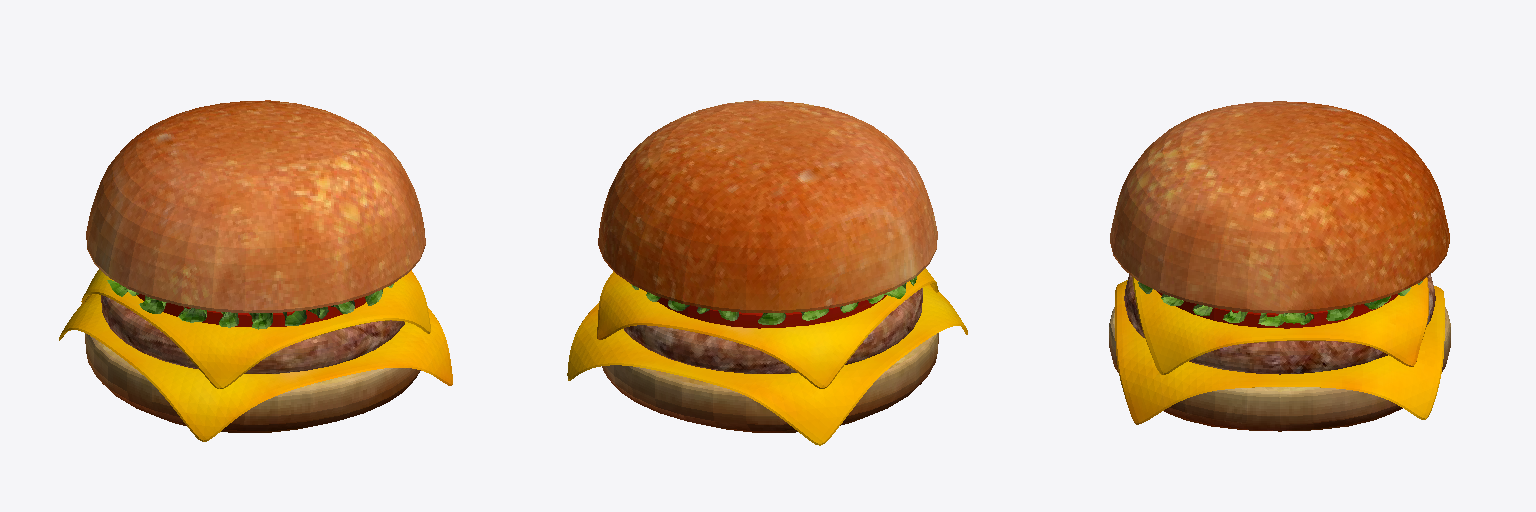
3 renders of one model, left to right at view 1: azimuth 30°, elevation 25°; view 2: azimuth 150°, elevation 25°; view 3: azimuth 270°, elevation 25°, orthographic.
Visible parts, largest first — view 1: hamburger.pawn.000_Cube.011, hamburger.chees.001_Plane.001, hamburger.chees.002_Plane.002, hamburger.pawn.001_Cube.006, hamburger.beef_Cube.003, hamburger.vegetable_Cube.005, hamburger.Tomato_Cube.000; view 2: hamburger.pawn.000_Cube.011, hamburger.chees.001_Plane.001, hamburger.chees.002_Plane.002, hamburger.pawn.001_Cube.006, hamburger.beef_Cube.003, hamburger.Tomato_Cube.000, hamburger.vegetable.001_Cube.007; view 3: hamburger.pawn.000_Cube.011, hamburger.chees.001_Plane.001, hamburger.chees.002_Plane.002, hamburger.pawn.001_Cube.006, hamburger.beef_Cube.003, hamburger.Tomato_Cube.000, hamburger.vegetable_Cube.005, hamburger.vegetable.001_Cube.007.
Boxes of the visible parts, <box> form: hamburger.pawn.000_Cube.011: <box>86,100,425,312</box>; hamburger.chees.001_Plane.001: <box>59,294,452,441</box>; hamburger.chees.002_Plane.002: <box>81,269,430,388</box>; hamburger.pawn.001_Cube.006: <box>85,333,420,432</box>; hamburger.beef_Cube.003: <box>101,295,404,373</box>; hamburger.vegetable_Cube.005: <box>107,280,393,329</box>; hamburger.Tomato_Cube.000: <box>137,294,365,326</box>; hamburger.pawn.000_Cube.011: <box>598,100,937,312</box>; hamburger.chees.001_Plane.001: <box>567,284,967,445</box>; hamburger.chees.002_Plane.002: <box>597,268,938,388</box>; hamburger.pawn.001_Cube.006: <box>602,333,938,432</box>; hamburger.beef_Cube.003: <box>624,288,922,373</box>; hamburger.Tomato_Cube.000: <box>646,291,886,328</box>; hamburger.vegetable.001_Cube.007: <box>631,283,906,324</box>; hamburger.pawn.000_Cube.011: <box>1110,101,1449,313</box>; hamburger.chees.001_Plane.001: <box>1115,280,1444,424</box>; hamburger.chees.002_Plane.002: <box>1132,277,1428,374</box>; hamburger.pawn.001_Cube.006: <box>1109,307,1450,431</box>; hamburger.beef_Cube.003: <box>1124,274,1435,374</box>; hamburger.Tomato_Cube.000: <box>1157,291,1397,328</box>; hamburger.vegetable_Cube.005: <box>1138,282,1313,326</box>; hamburger.vegetable.001_Cube.007: <box>1277,281,1422,323</box>.
Bounding box in the file's own units: 1 × 0.7854 × 1.
Materials: 6 (6 with a texture image).